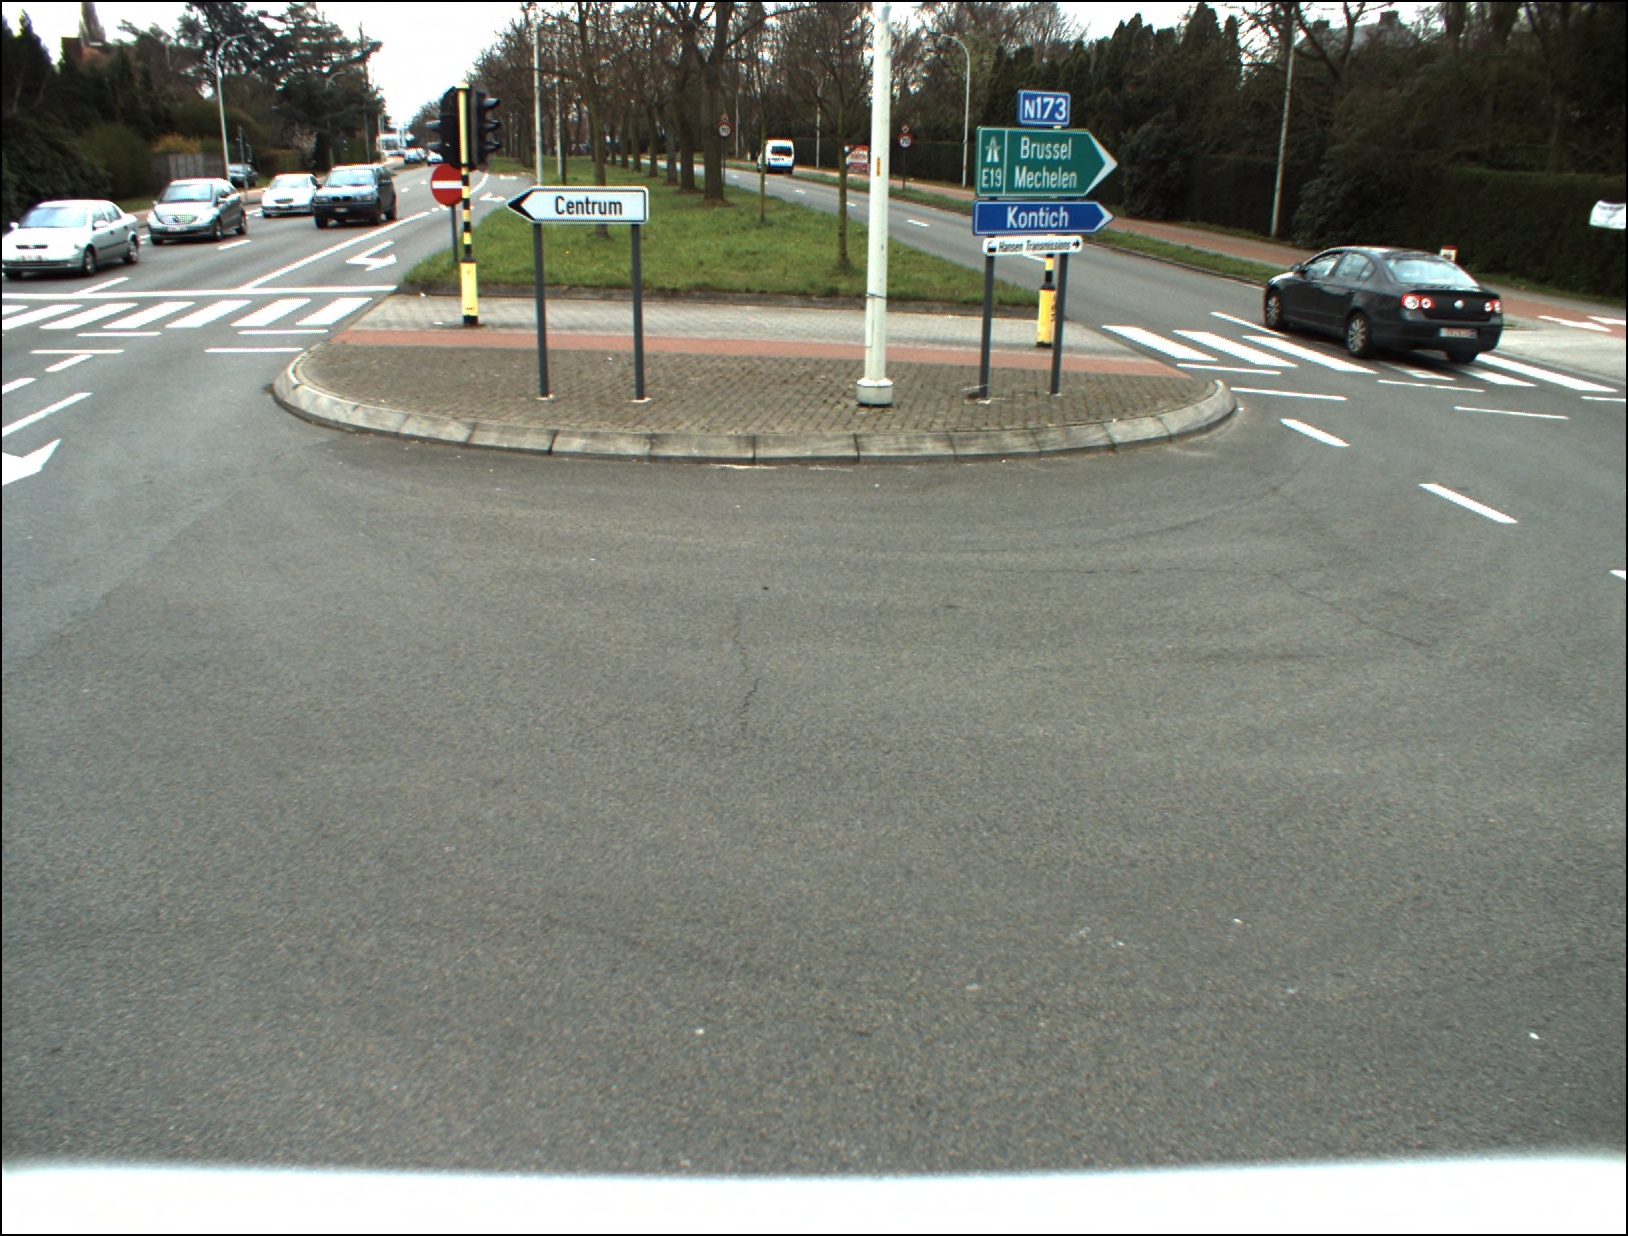noentry: (428, 162, 463, 206)
